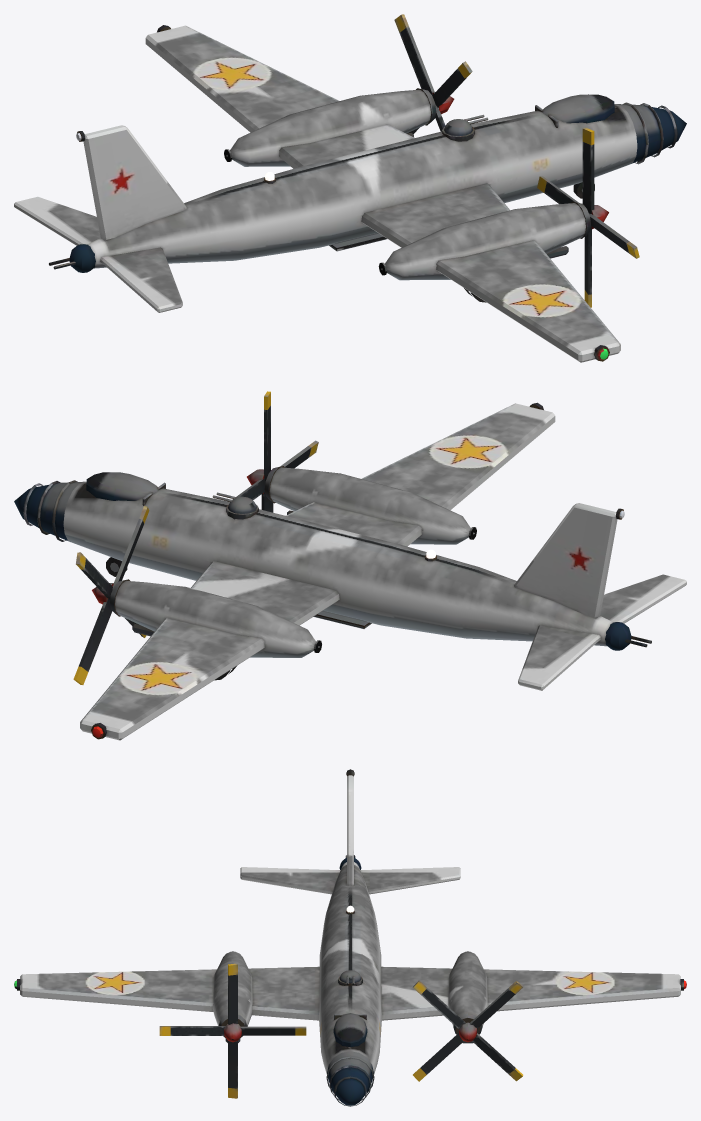
The model's file is badr.soviet.glb.
3 views of the same model, one above another, from view 1: azimuth 30°, elevation 25°; view 2: azimuth 150°, elevation 25°; view 3: azimuth 270°, elevation 25° (orthographic). The views are drawn at different scales.
Visible parts, largest first — view 1: root_mesh, propL_mesh, propR_mesh; view 2: root_mesh, propR_mesh, propL_mesh; view 3: root_mesh, propR_mesh, propL_mesh.
Part boxes in pixels (bbox=[...]): root_mesh: bbox=[14, 25, 686, 362]; propL_mesh: bbox=[537, 127, 639, 307]; propR_mesh: bbox=[394, 14, 472, 133]; root_mesh: bbox=[14, 402, 686, 740]; propR_mesh: bbox=[73, 505, 149, 684]; propL_mesh: bbox=[232, 391, 318, 512]; root_mesh: bbox=[14, 769, 686, 1106]; propR_mesh: bbox=[412, 980, 523, 1081]; propL_mesh: bbox=[159, 963, 306, 1098].
Bounding box in the file's own units: 1.52 × 0.5067 × 1.83.
Materials: 2 (1 with a texture image).
